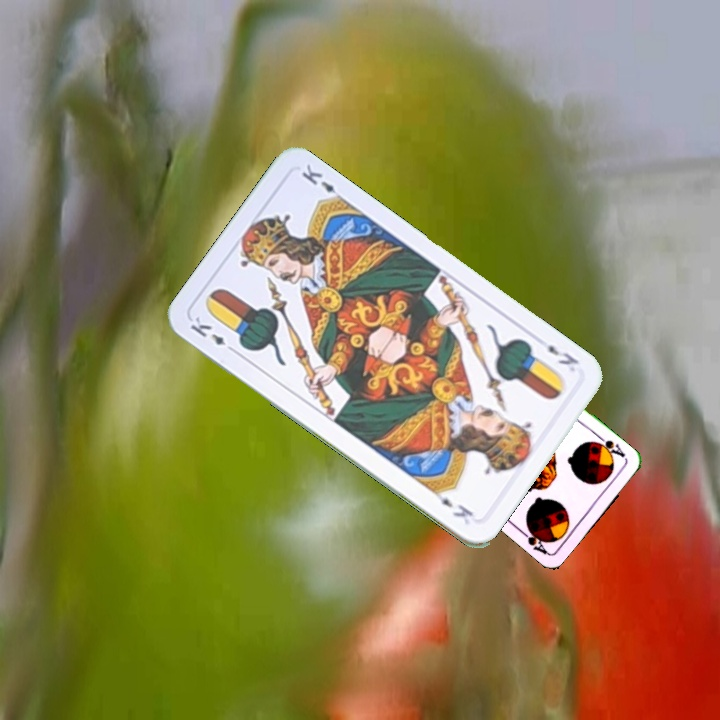EK: (186, 312, 240, 356), (543, 340, 582, 375)
SA: (590, 432, 629, 462)
